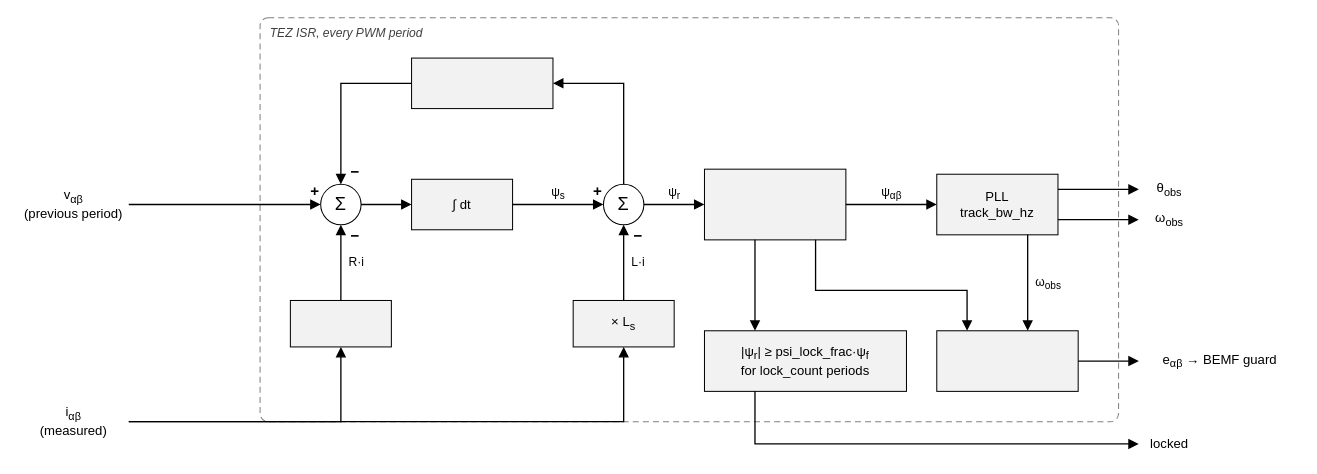
This 1317x474 diagram has some shape labels left out. Each missing label, with the centre of its shape:
e = ω obs × ψ r: [1007,360]
washout λ = 2π·blend_hz: [482,83]
|ψ r | ceiling low-pass obs_bw_hz: [774,204]
× R s: [340,323]
